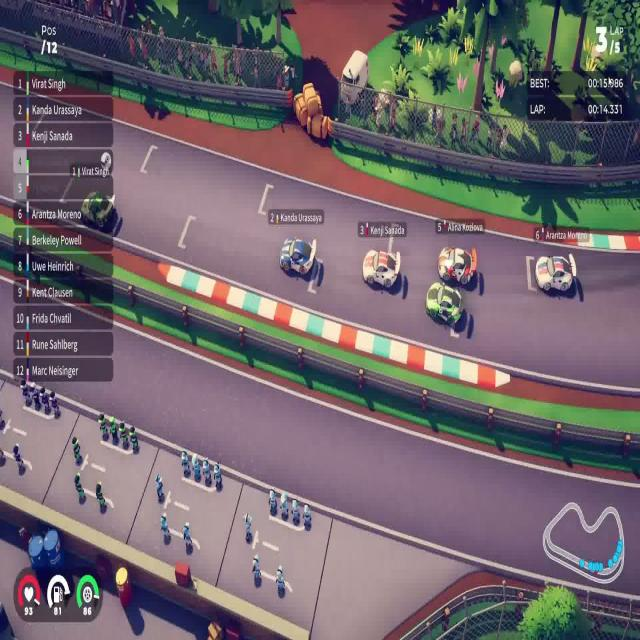car: (534, 251, 577, 295), (362, 244, 401, 291), (425, 280, 463, 327), (437, 244, 477, 286), (279, 234, 317, 276)
